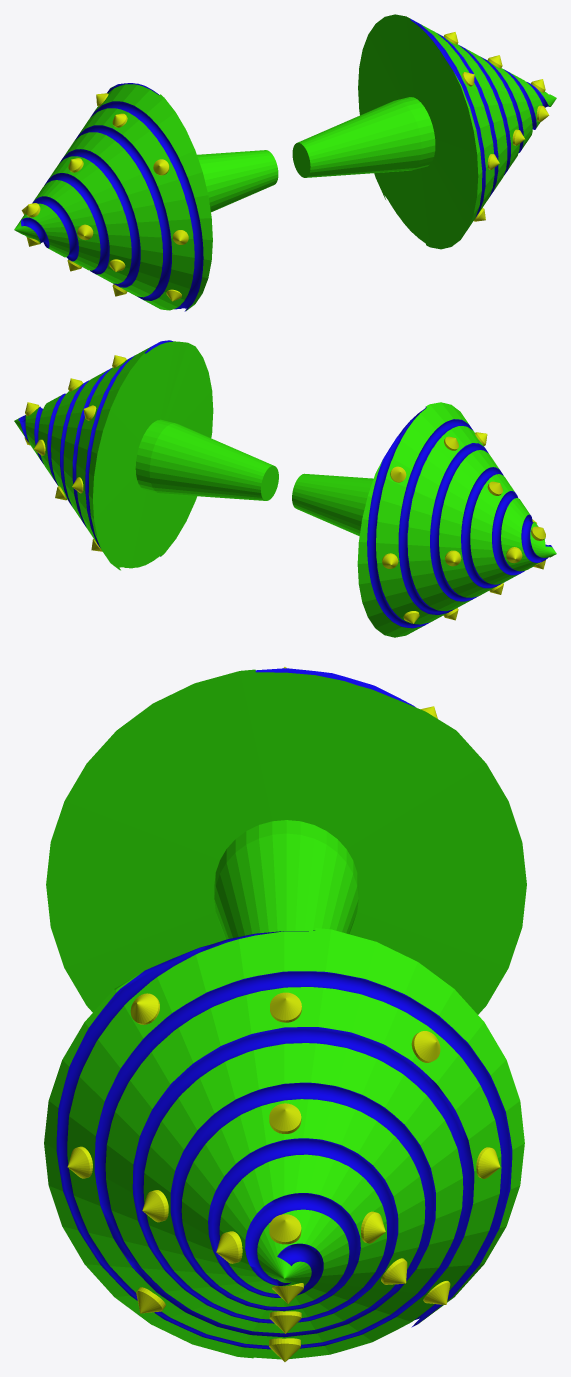
The model's file is side arm lvl 4.fbx.
3 views of the same model, one above another, from view 1: azimuth 30°, elevation 25°; view 2: azimuth 150°, elevation 25°; view 3: azimuth 270°, elevation 25° (orthographic). The views are drawn at different scales.
Visible parts, largest first — view 1: drill head, drill head.001; view 2: drill head, drill head.001; view 3: drill head, drill head.001.
Part boxes in pixels (x1,y1,x2,y2): drill head: [292, 14, 556, 249]; drill head.001: [14, 83, 278, 311]; drill head: [14, 340, 278, 570]; drill head.001: [292, 402, 556, 637]; drill head: [44, 928, 524, 1361]; drill head.001: [46, 667, 526, 1014].
Size of the model in its own units: 506 by 192 by 195.
